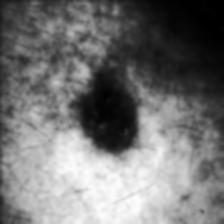Potentially Malignant Skin Tumors: (86, 83, 149, 166)
